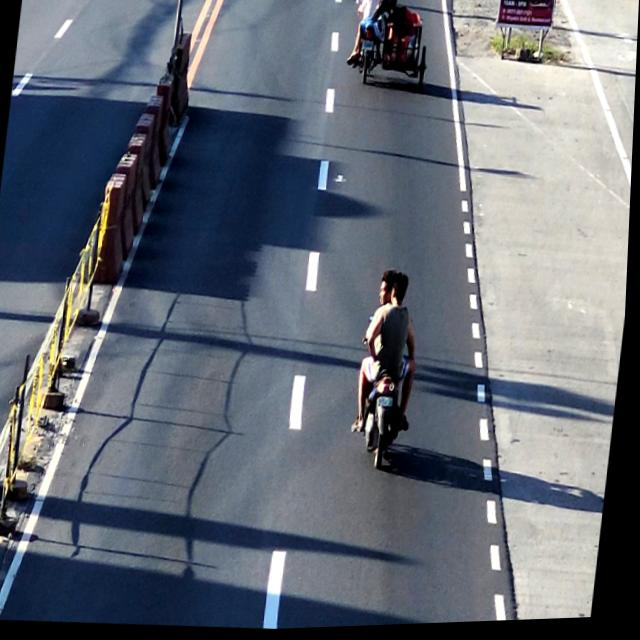Motorcycle: (352, 270, 433, 475)
Tricycle: (348, 0, 434, 89)
